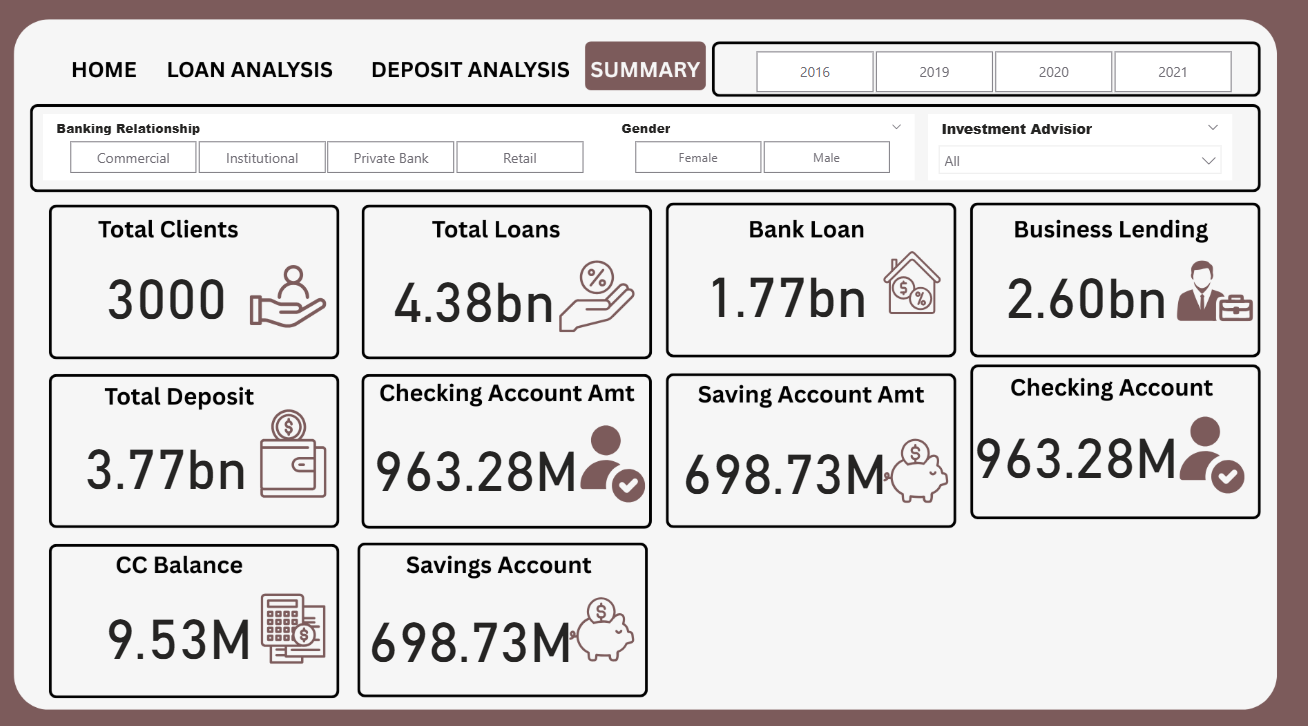

This screenshot's page, from the dashboard's own definition file:
{"tool":"powerbi","page":{"name":"Summary","canvas":[1280,720],"ordinal":3},"visuals":[{"type":"card","fields":{"Values":["CountNonNull(banking-clients.Name)"]},"box":[65,253.3,205,68.3],"z":0},{"type":"card","fields":{"Values":["banking-clients.Total Loan"]},"box":[351.7,256.7,226.7,66.7],"z":1},{"type":"card","fields":{"Values":["banking-clients.Total Deposit"]},"box":[53.3,420,228.3,65],"z":2},{"type":"card","fields":{"Values":["Sum(banking-clients.Business Lending)"]},"box":[953.3,253.3,205,66.7],"z":3},{"type":"card","fields":{"Values":["Sum(banking-clients.Bank Loans)"]},"box":[663.3,251.7,205,68.3],"z":4},{"type":"card","fields":{"Values":["Sum(banking-clients.Checking Accounts)"]},"box":[351.7,420,230,68.3],"z":5},{"type":"card","fields":{"Values":["Sum(banking-clients.Saving Accounts)"]},"box":[660,425,208.3,63.3],"z":6},{"type":"card","fields":{"Values":["Sum(banking-clients.Credit Card Balance)"]},"box":[77.1,582.9,204.3,67.1],"z":7},{"type":"card","fields":{"Values":["Sum(banking-clients.Saving Accounts)"]},"box":[352.5,587.5,217.5,62.5],"z":8},{"type":"card","fields":{"Values":["Sum(banking-clients.Checking Accounts)"]},"box":[931.2,406.2,227.5,70],"z":9},{"type":"slicer","fields":{"Values":["banking-clients.BRId"]},"box":[48,116,545.3,64],"z":10},{"type":"slicer","fields":{"Values":["banking-clients.GenderId"]},"box":[593.3,116,296,64],"z":11},{"type":"slicer","fields":{"Values":["banking-clients.IAId"]},"box":[902.7,116,293.3,64],"z":12},{"type":"slicer","fields":{"Values":["banking-clients.Joined Bank.Variation.Date Hierarchy.Year"]},"box":[710.8,48,509.1,53.5],"z":13},{"type":"actionButton","box":[351.3,59,218.2,32.9],"z":14},{"type":"actionButton","box":[155,55,180,33.3],"z":15},{"type":"actionButton","box":[54.9,54.9,100.2,39.8],"z":16}]}

Visuals, with their boxes in screenshot pixels (x1, y1, x2, y2), scaled from the page's 1280x720 canvas onto the 1308x726 screenshot:
card - CountNonNull(banking-clients.Name): [x1=66, y1=255, x2=276, y2=324]
card - banking-clients.Total Loan: [x1=359, y1=259, x2=591, y2=326]
card - banking-clients.Total Deposit: [x1=54, y1=424, x2=288, y2=489]
card - Sum(banking-clients.Business Lending): [x1=974, y1=255, x2=1184, y2=323]
card - Sum(banking-clients.Bank Loans): [x1=678, y1=254, x2=887, y2=323]
card - Sum(banking-clients.Checking Accounts): [x1=359, y1=424, x2=594, y2=492]
card - Sum(banking-clients.Saving Accounts): [x1=674, y1=429, x2=887, y2=492]
card - Sum(banking-clients.Credit Card Balance): [x1=79, y1=588, x2=288, y2=655]
card - Sum(banking-clients.Saving Accounts): [x1=360, y1=592, x2=582, y2=655]
card - Sum(banking-clients.Checking Accounts): [x1=952, y1=410, x2=1184, y2=480]
slicer - banking-clients.BRId: [x1=49, y1=117, x2=606, y2=182]
slicer - banking-clients.GenderId: [x1=606, y1=117, x2=909, y2=182]
slicer - banking-clients.IAId: [x1=922, y1=117, x2=1222, y2=182]
slicer - banking-clients.Joined Bank.Variation.Date Hierarchy.Year: [x1=726, y1=48, x2=1247, y2=102]
actionButton: [x1=359, y1=59, x2=582, y2=93]
actionButton: [x1=158, y1=55, x2=342, y2=89]
actionButton: [x1=56, y1=55, x2=158, y2=95]
